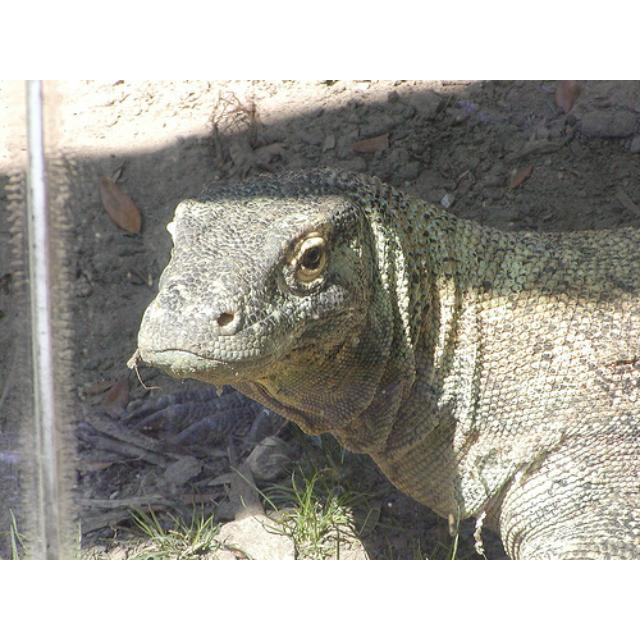KomodoDragon: (135, 163, 638, 557)
